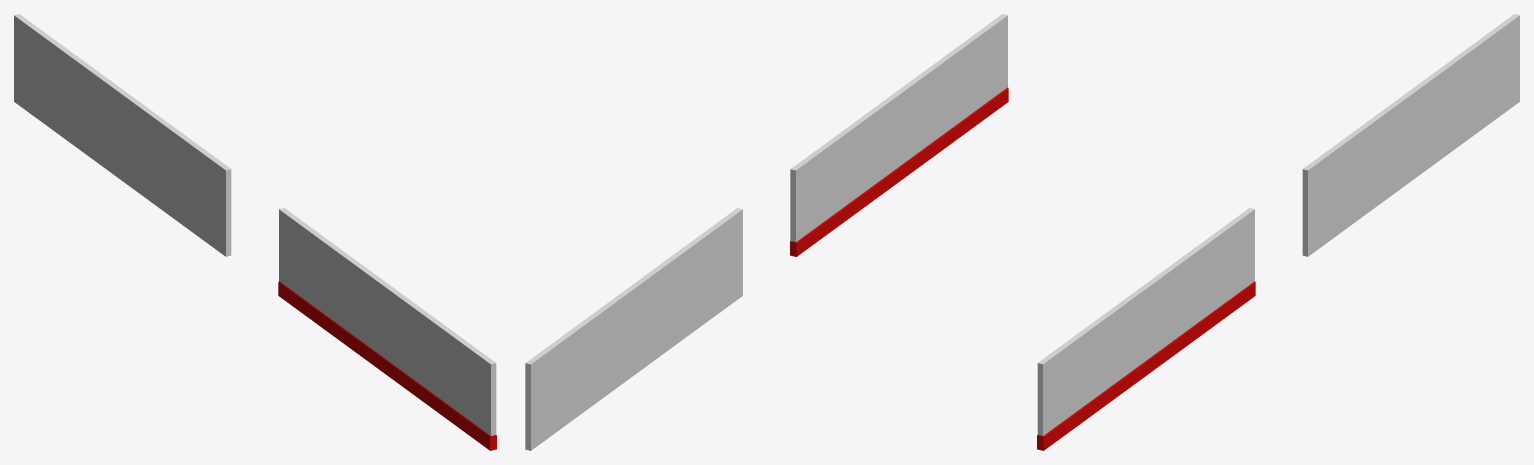
Rendered from Walls.glb.
3 renders of one model, left to right at view 1: azimuth 30°, elevation 25°; view 2: azimuth 150°, elevation 25°; view 3: azimuth 330°, elevation 25°, orthographic.
Visible parts, largest first — view 1: Wall_BaseBoard, Wall_Basic; view 2: Wall_BaseBoard, Wall_Basic; view 3: Wall_BaseBoard, Wall_Basic.
Boxes of the visible parts, x1=… form: Wall_BaseBoard: x1=278, y1=208, x2=496, y2=450; Wall_Basic: x1=14, y1=14, x2=231, y2=256; Wall_BaseBoard: x1=790, y1=14, x2=1008, y2=256; Wall_Basic: x1=525, y1=208, x2=742, y2=450; Wall_BaseBoard: x1=1037, y1=208, x2=1255, y2=450; Wall_Basic: x1=1302, y1=14, x2=1519, y2=256.
Bounding box in the file's own units: 0.3604 × 4.5 × 45.
